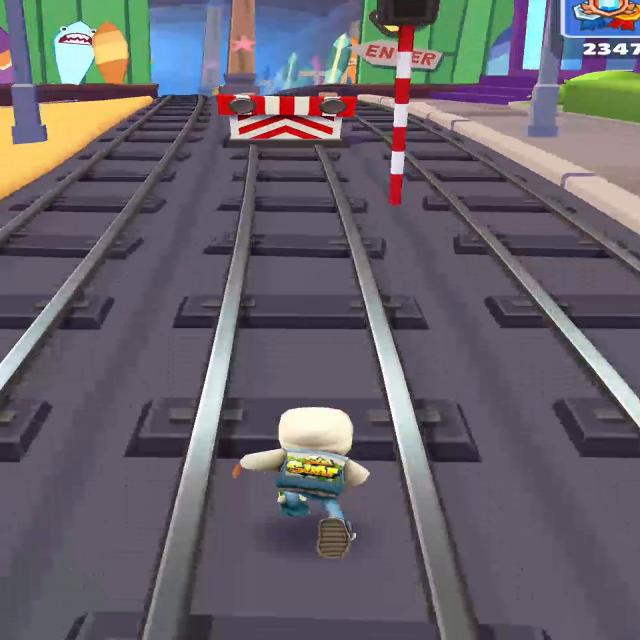block pillar: (221, 0, 259, 94)
roll blocker: (218, 94, 355, 146)
